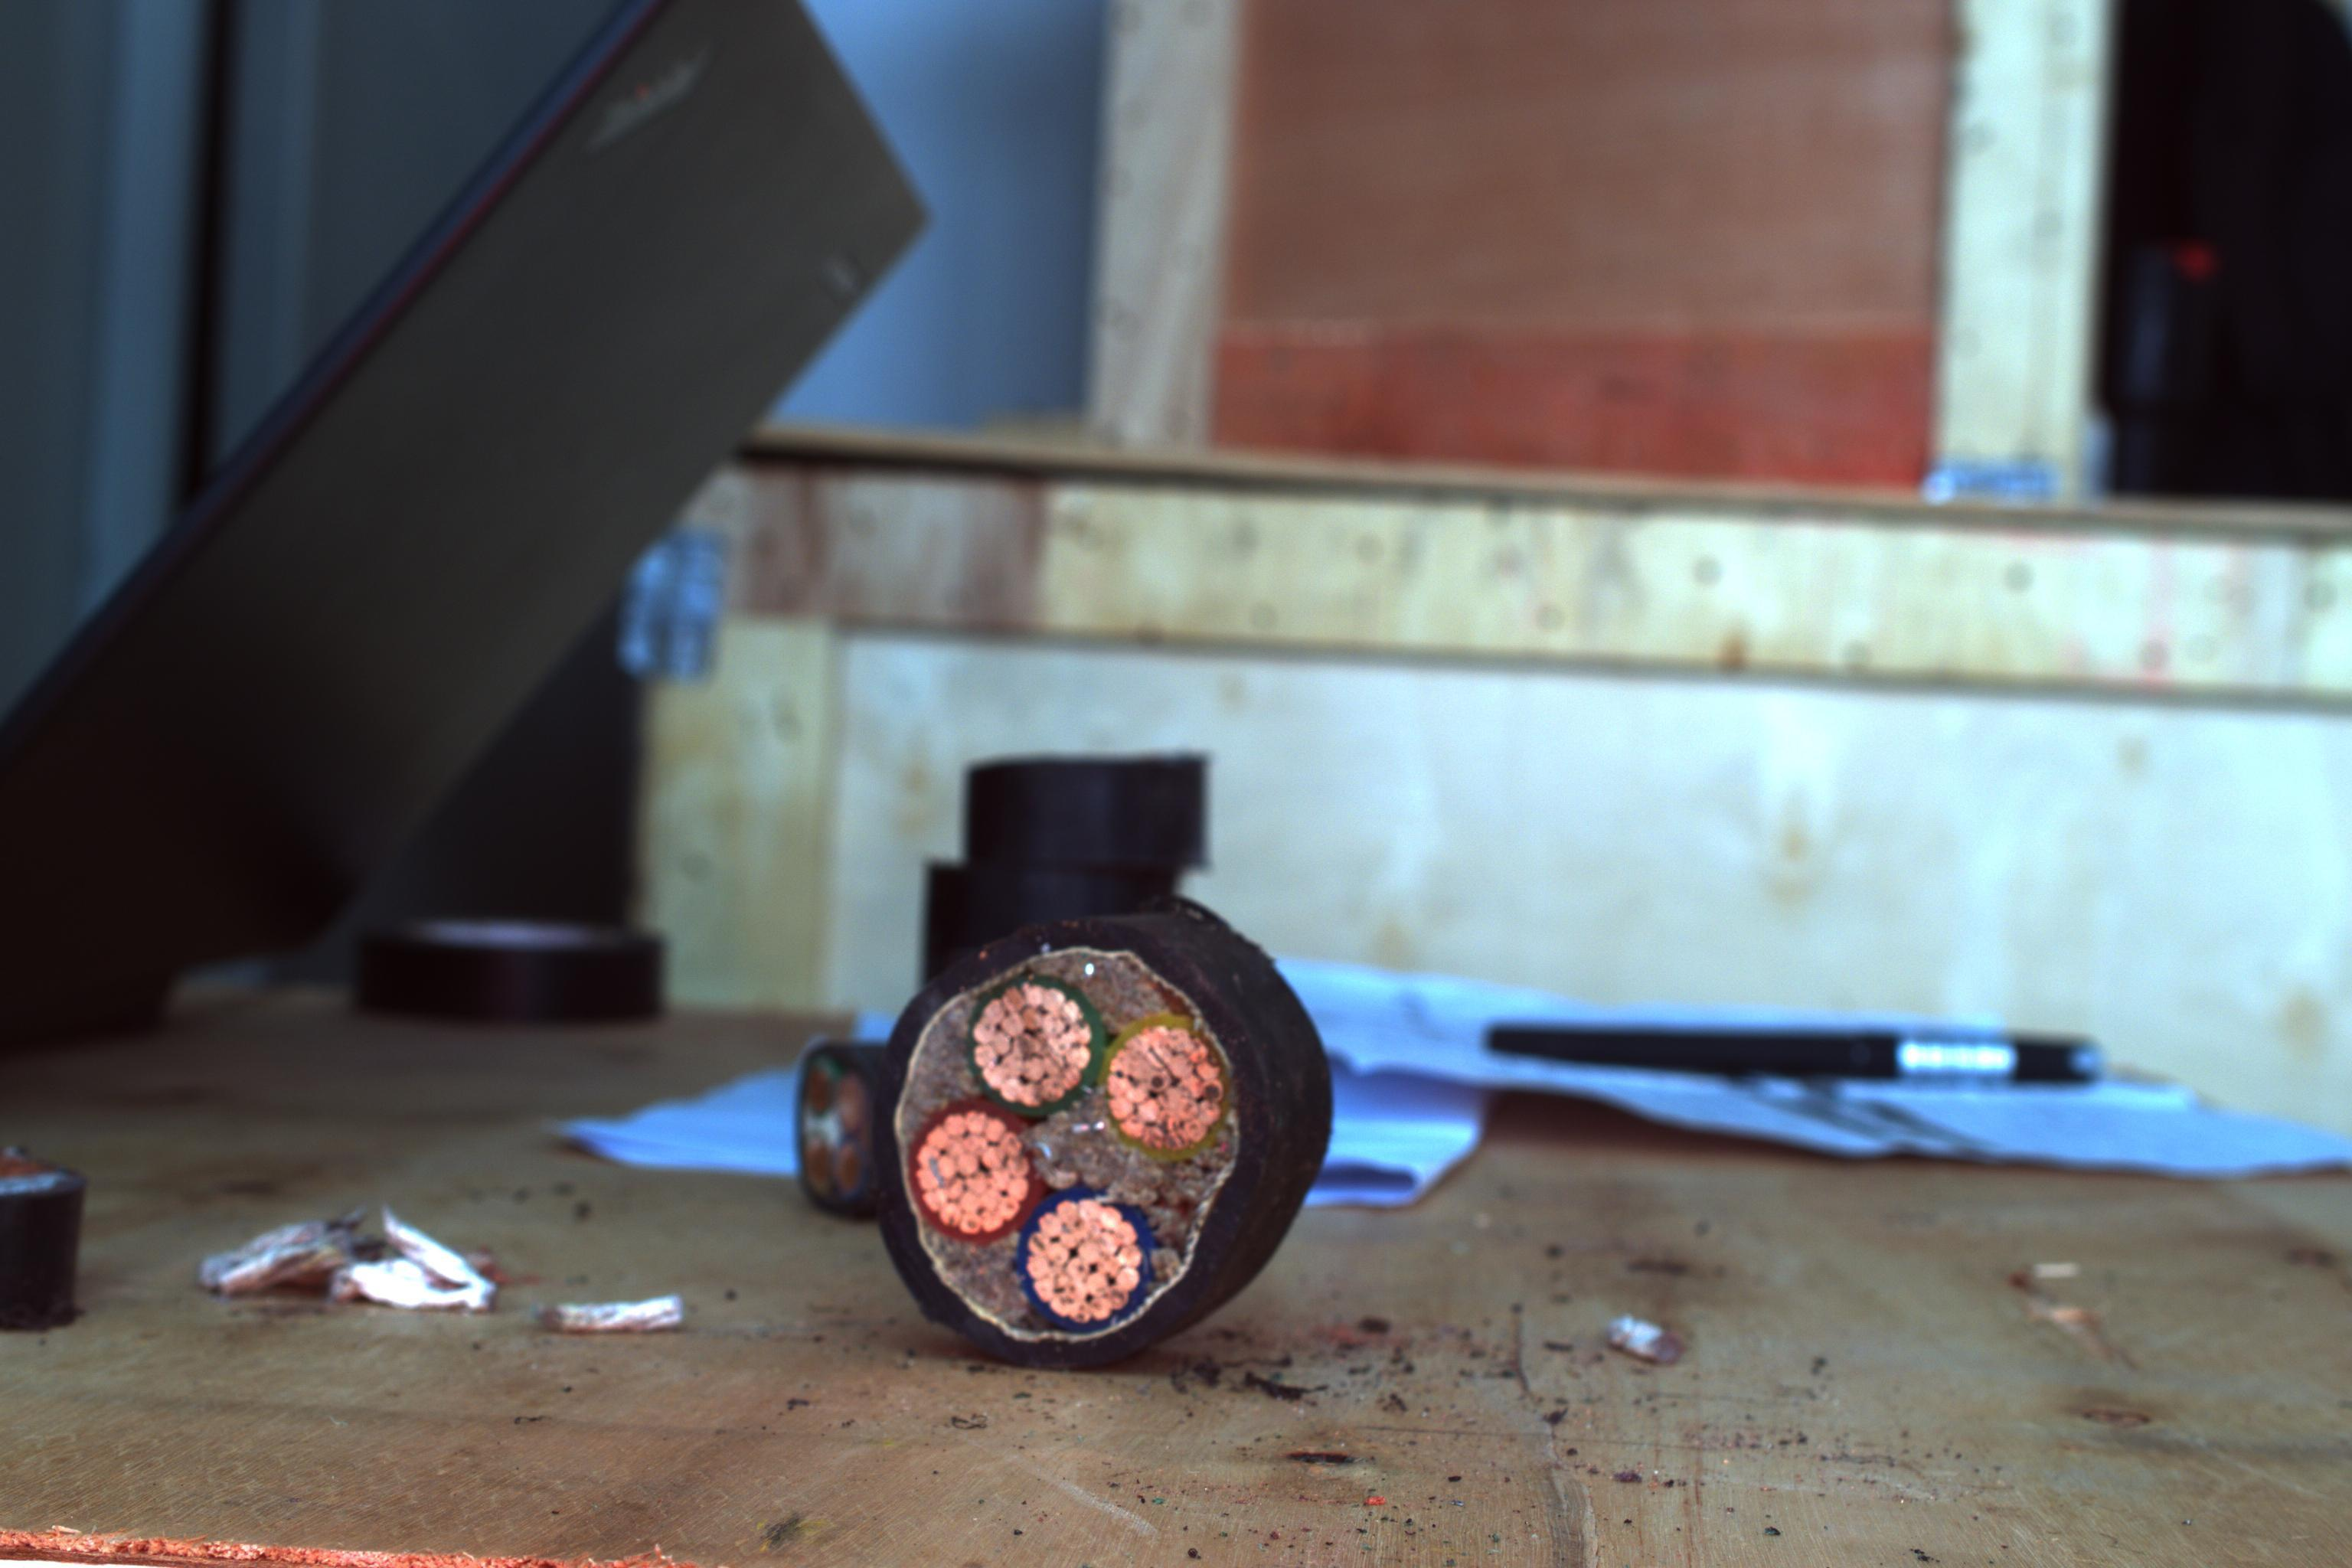YJV_0.6_1kV_4x120: (882, 926, 1235, 1351)
